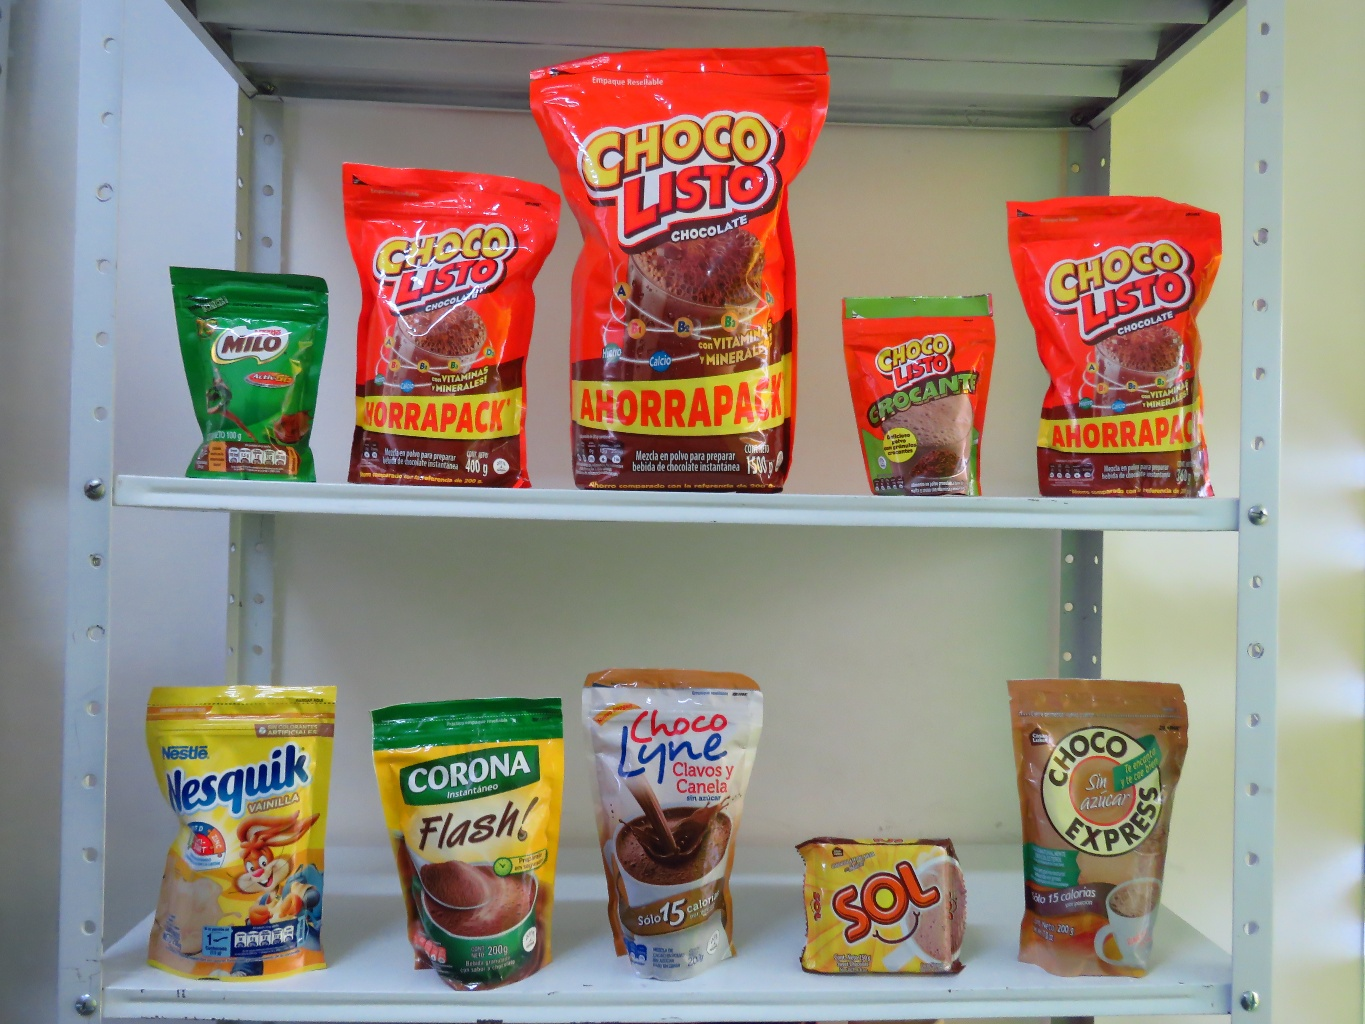COL0170102DYP10000: (841, 293, 995, 496)
COL0170103DYP1,500: (525, 44, 828, 493)
COL0170103DYP36000: (1006, 196, 1226, 500)
COL0170103DYP40000: (337, 161, 566, 490)
COL0170205DYP50000: (168, 264, 332, 486)
COL0170306DYP20000: (146, 684, 339, 986)
